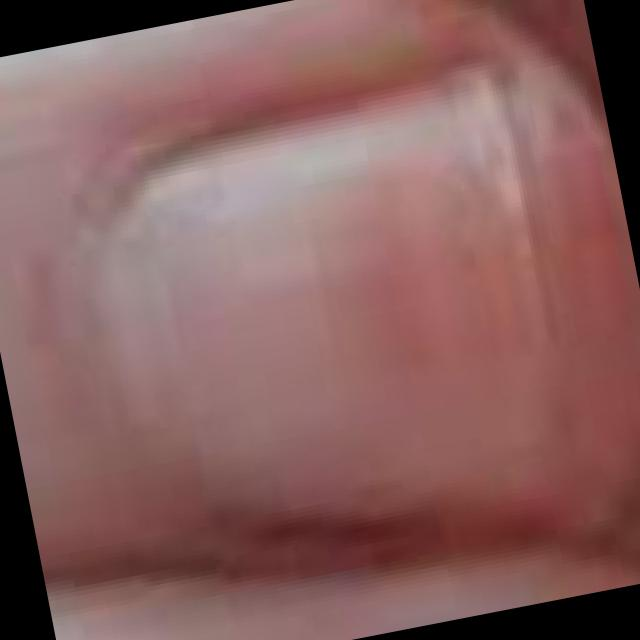Nail: (84, 63, 543, 512)
